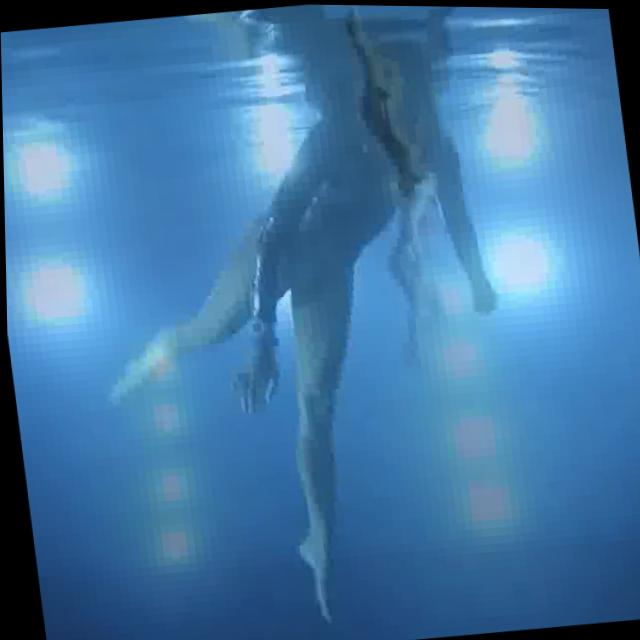human: (40, 63, 571, 640)
